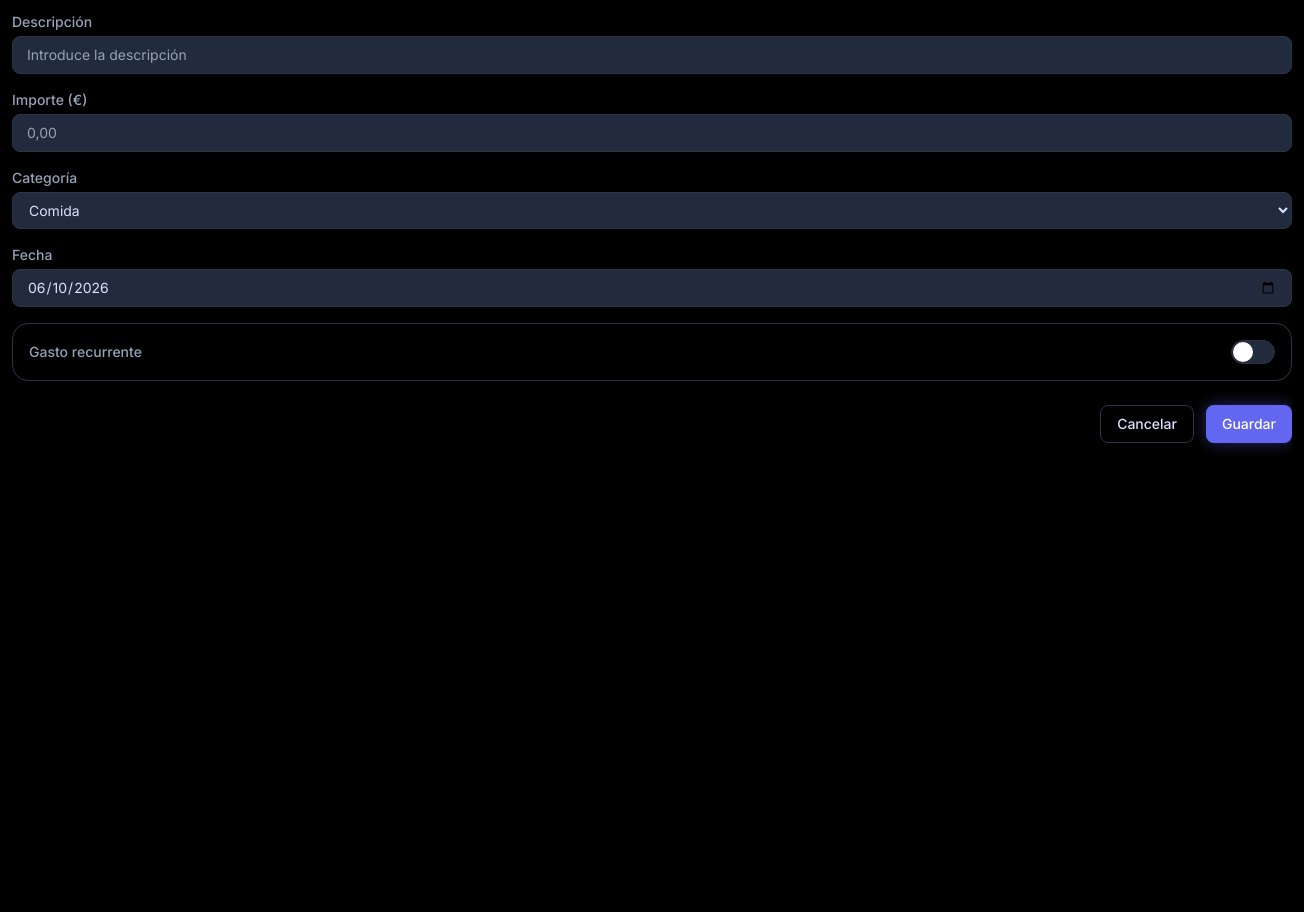
Test: ExpenseForm — recurring validation › rejects an end-date toggle without a date
Type "Luz" into the field labelled "Descripción" at [652, 55], box [12,36,1292,74]
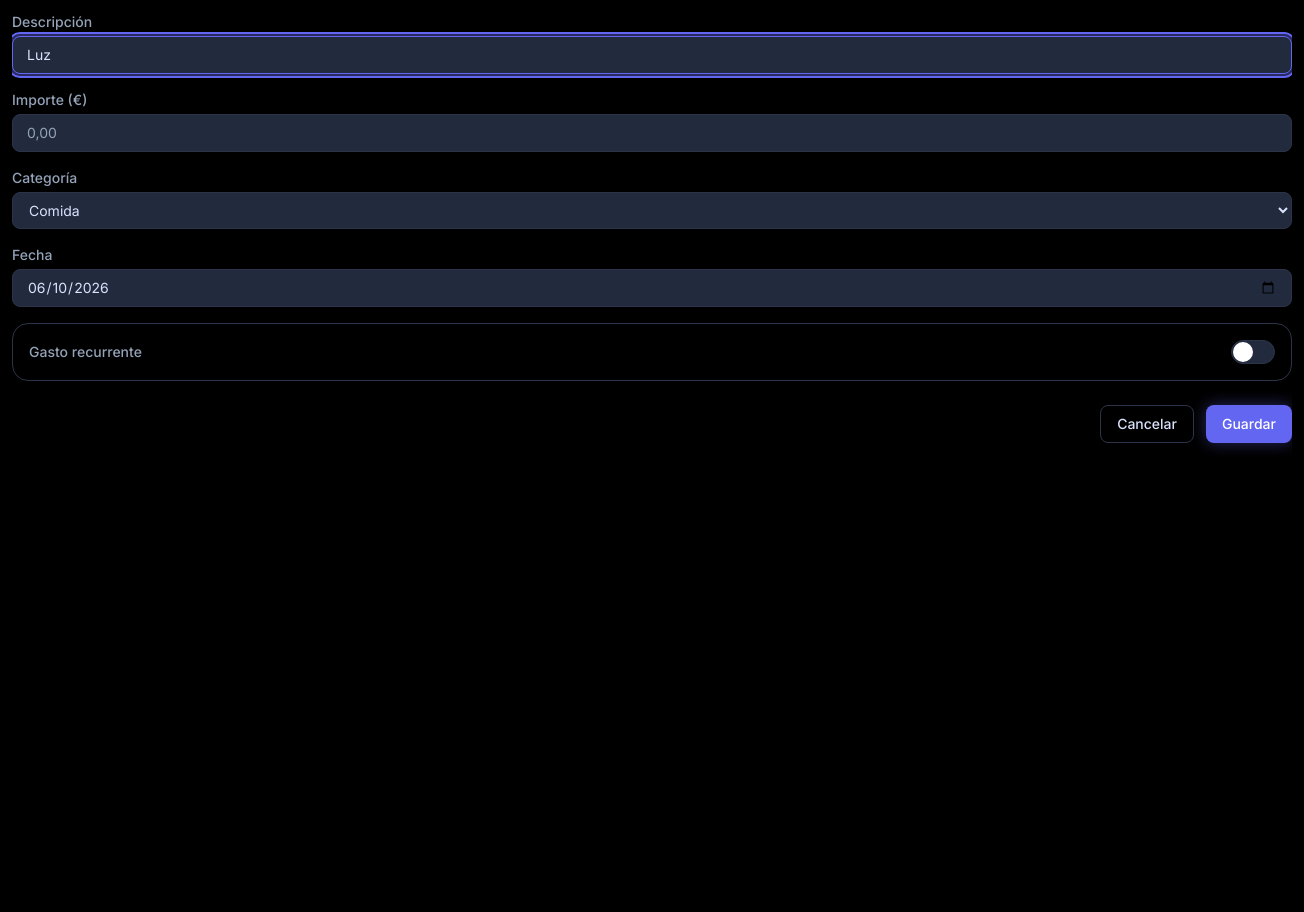
Type "60" into the field labelled "Importe (€)" at [652, 133], box [12,114,1292,152]
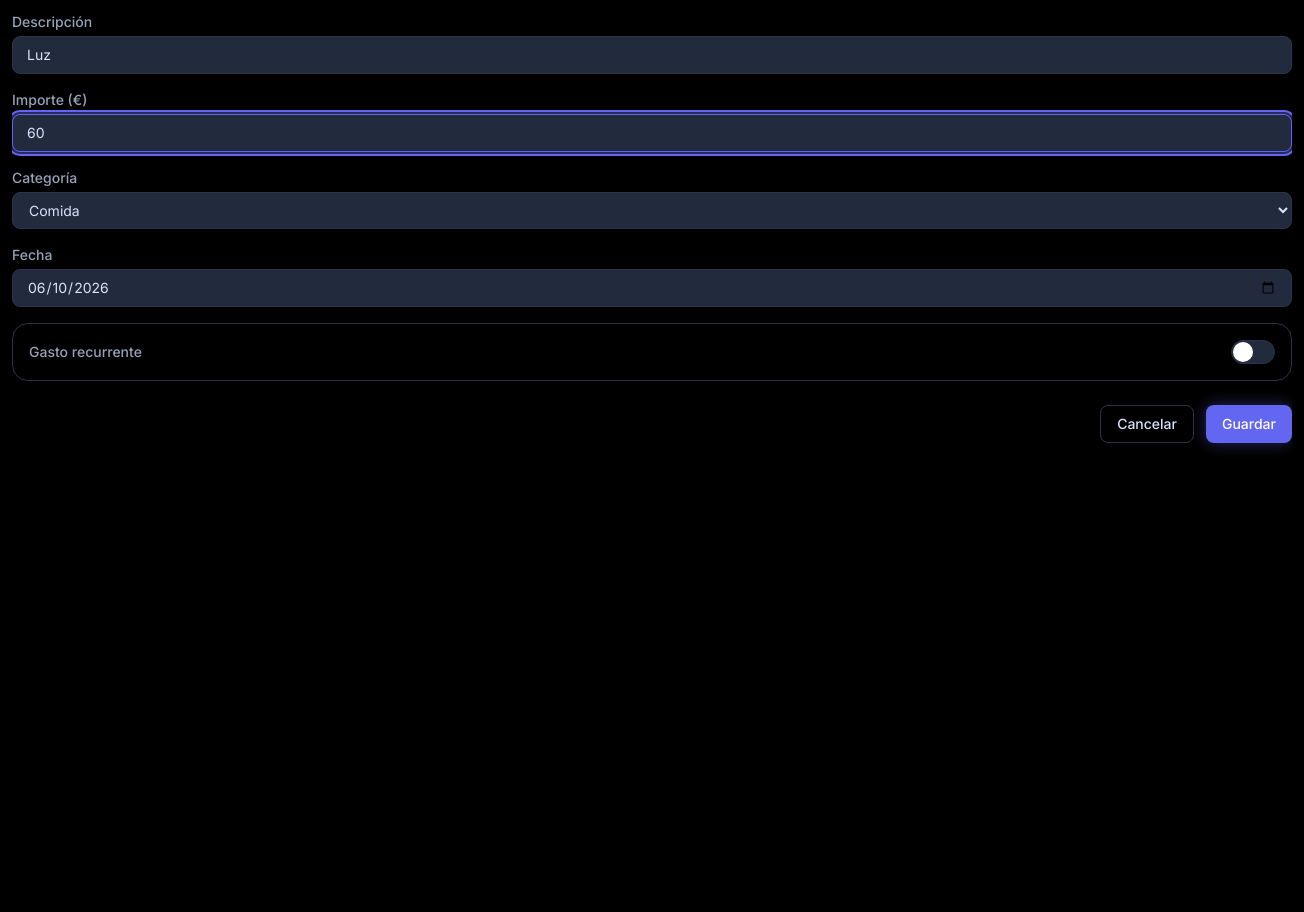
Click the checkbox labelled "Gasto recurrente" at [85, 352], box [29,340,1275,364]
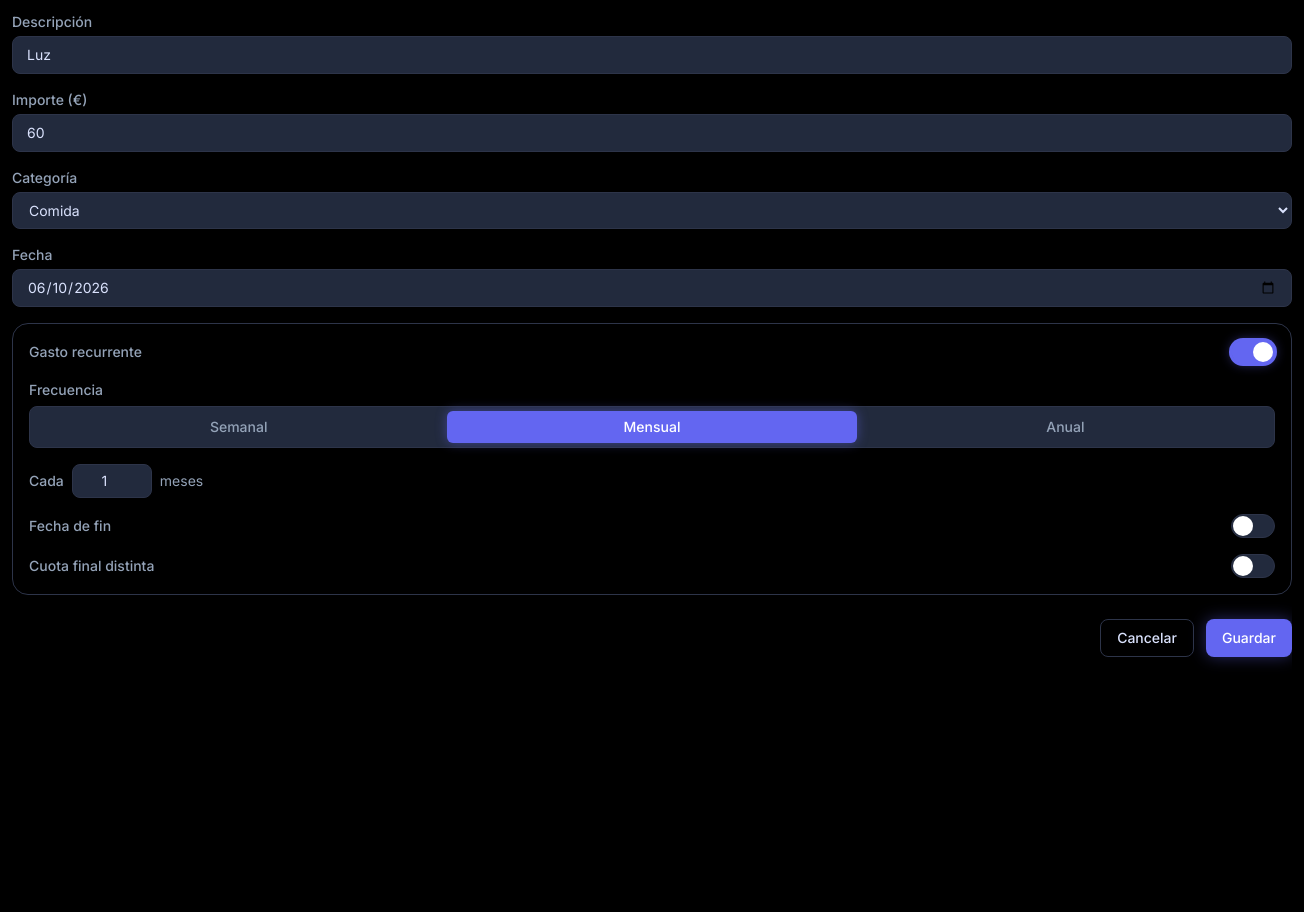
Click the checkbox labelled "Fecha de fin" at [70, 526], box [29,514,1275,538]
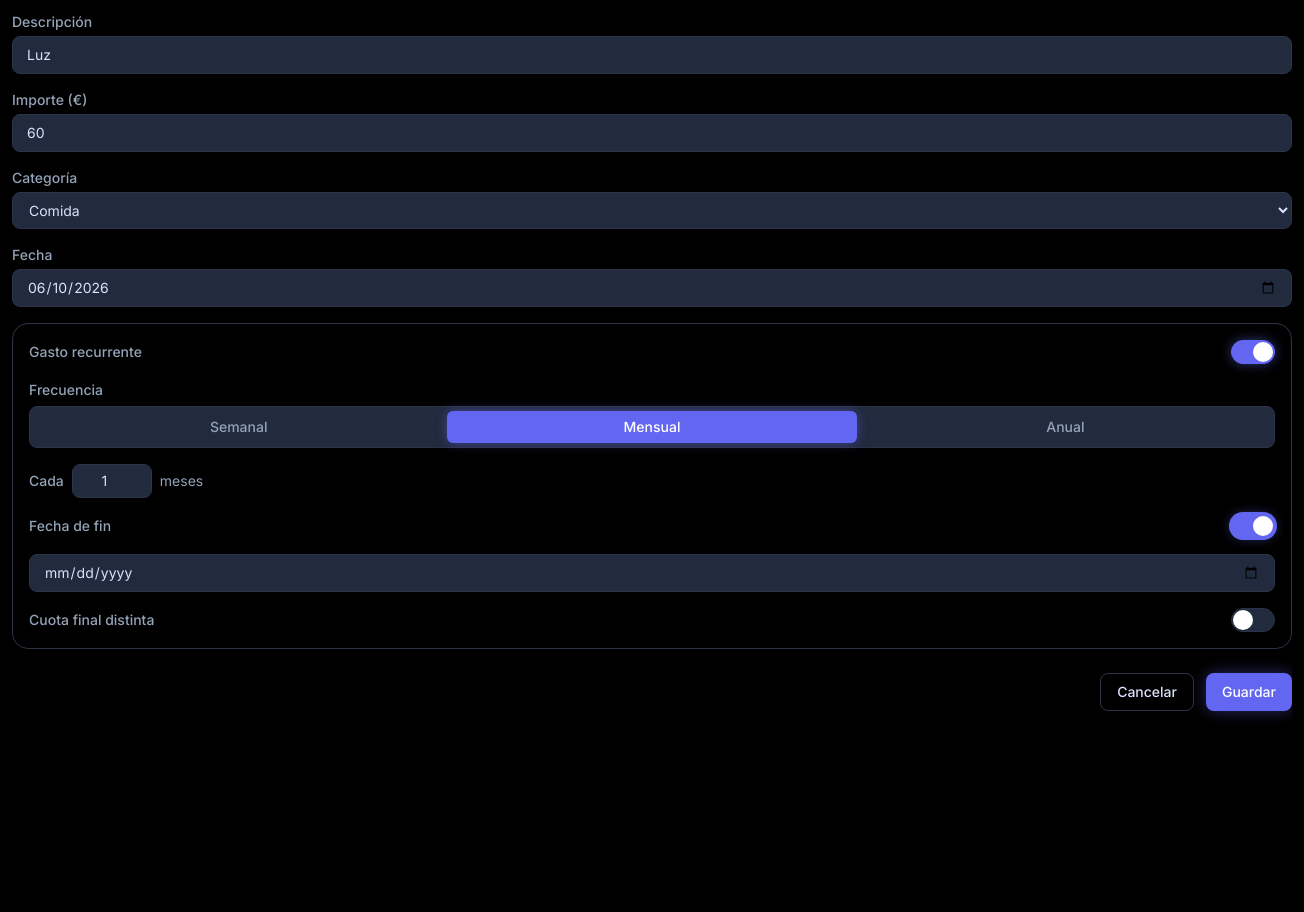
Click the button "Guardar" at [1249, 692], box [1206,673,1292,711]
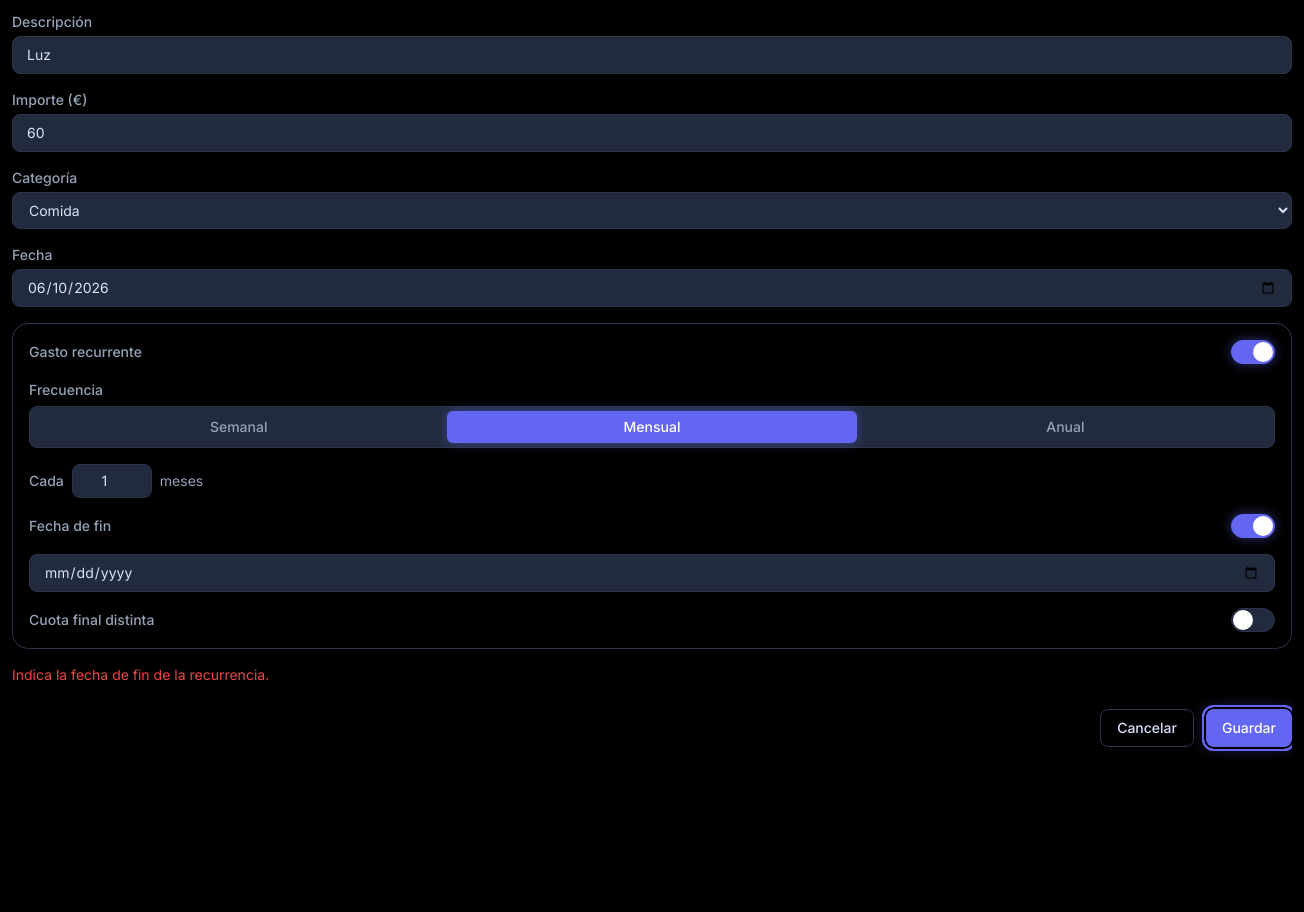
Now the message shows "fecha de fin", box [12,666,269,683]
